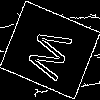W: (25, 25, 82, 86)
